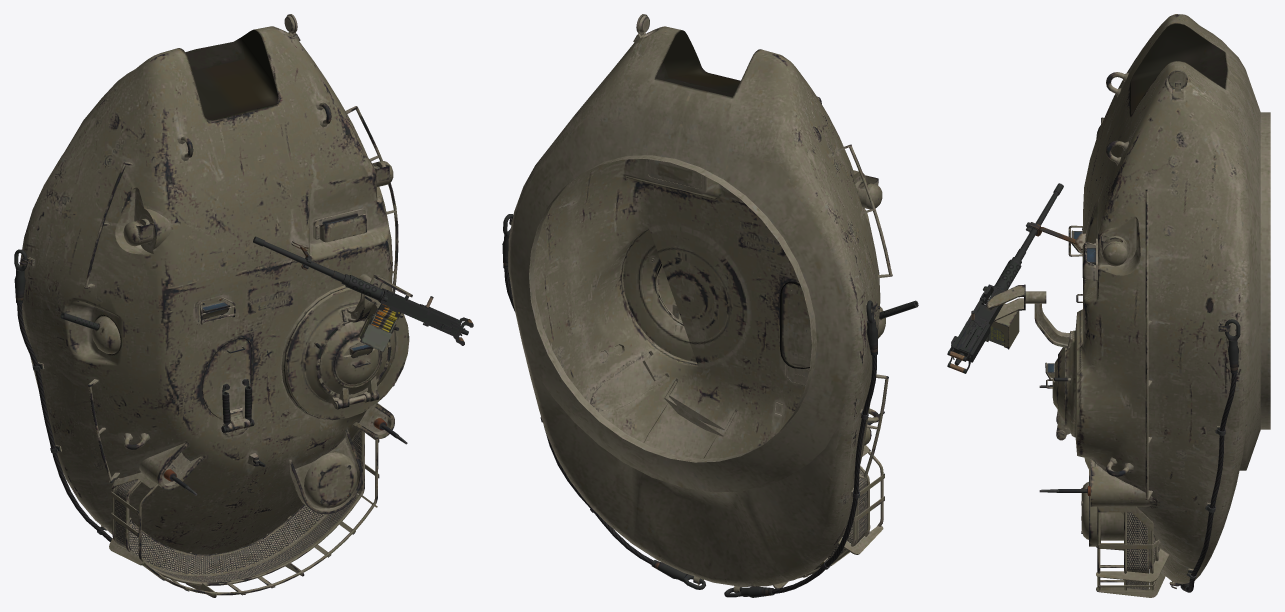
Rendered from Turret_02.glb.
The picture shows the model from 3 angles, left to right: view 1: azimuth 30°, elevation 25°; view 2: azimuth 150°, elevation 25°; view 3: azimuth 270°, elevation 25°; orthographic projection. The views are drawn at different scales.
Visible parts, largest first — view 1: set_0_group_0; view 2: set_0_group_0; view 3: set_0_group_0.
Part boxes in pixels (x1,y1,x2,y2): set_0_group_0: [14, 14, 473, 597]; set_0_group_0: [502, 14, 918, 597]; set_0_group_0: [947, 14, 1270, 597].
Size of the model in its own units: 2.84 by 4.06 by 2.19.
Materials: 1 (1 with a texture image).
